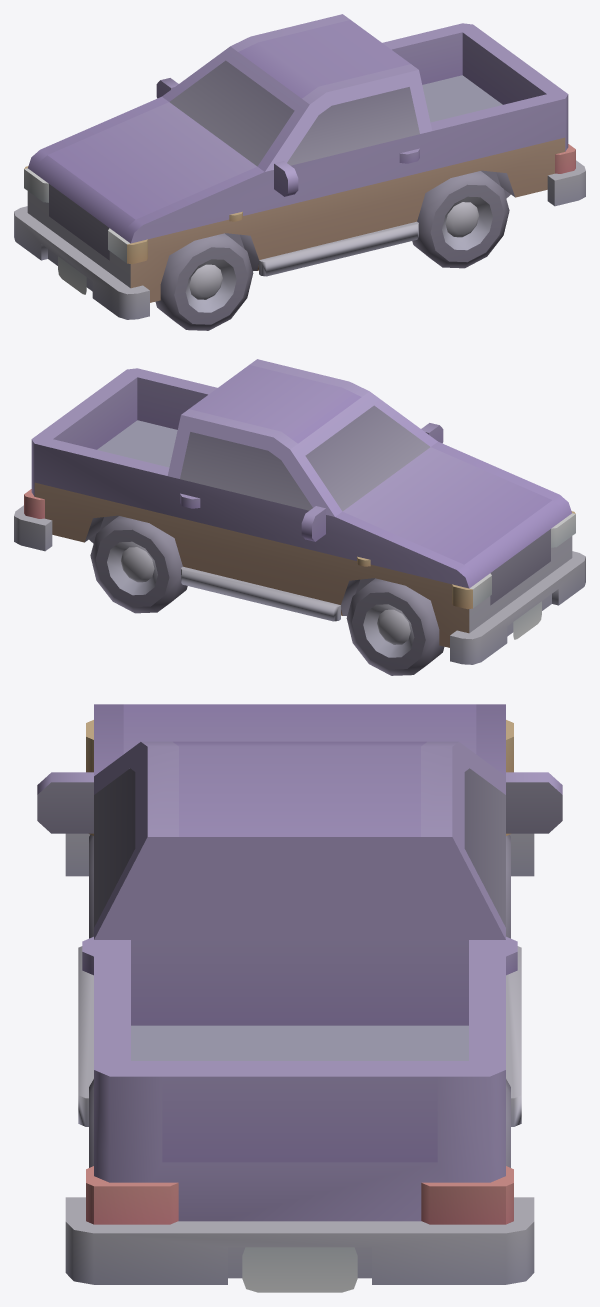
The model's file is car-flatbed.glb.
3 renders of one model, top to bottom at view 1: azimuth 30°, elevation 25°; view 2: azimuth 150°, elevation 25°; view 3: azimuth 270°, elevation 25°, orthographic. The views are drawn at different scales.
Parts seen in each view (by area): view 1: car-flatbed; view 2: car-flatbed; view 3: car-flatbed.
Boxes of the visible parts, left/top/right/bottom form: car-flatbed: left=14, top=14, right=585, bottom=330; car-flatbed: left=14, top=359, right=585, bottom=675; car-flatbed: left=37, top=704, right=562, bottom=1292.
Bounding box in the file's own units: 3.41 × 1.38 × 1.67.
